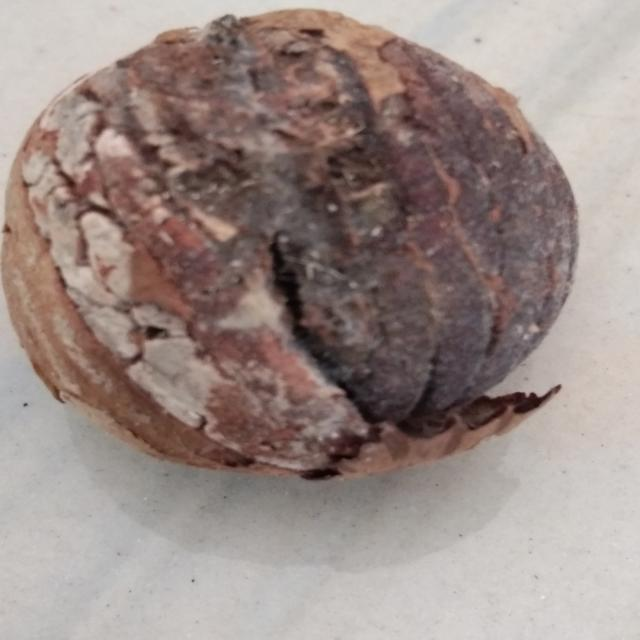karigot: (10, 0, 602, 470)
